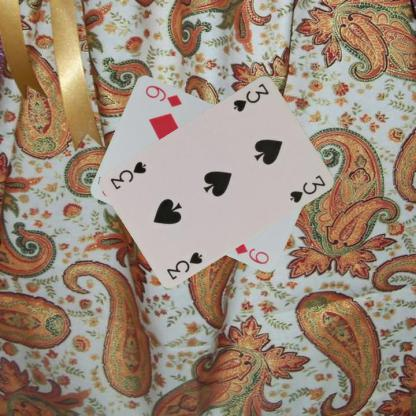3s: (230, 80, 271, 113), (164, 248, 204, 281)
